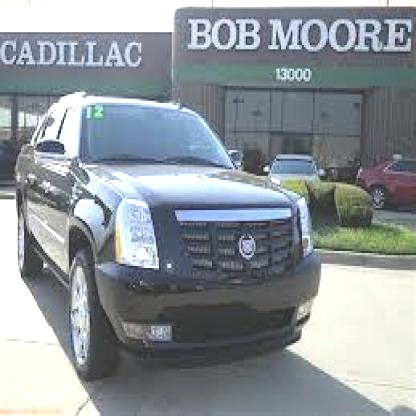Vehicle: (15, 97, 320, 388)
